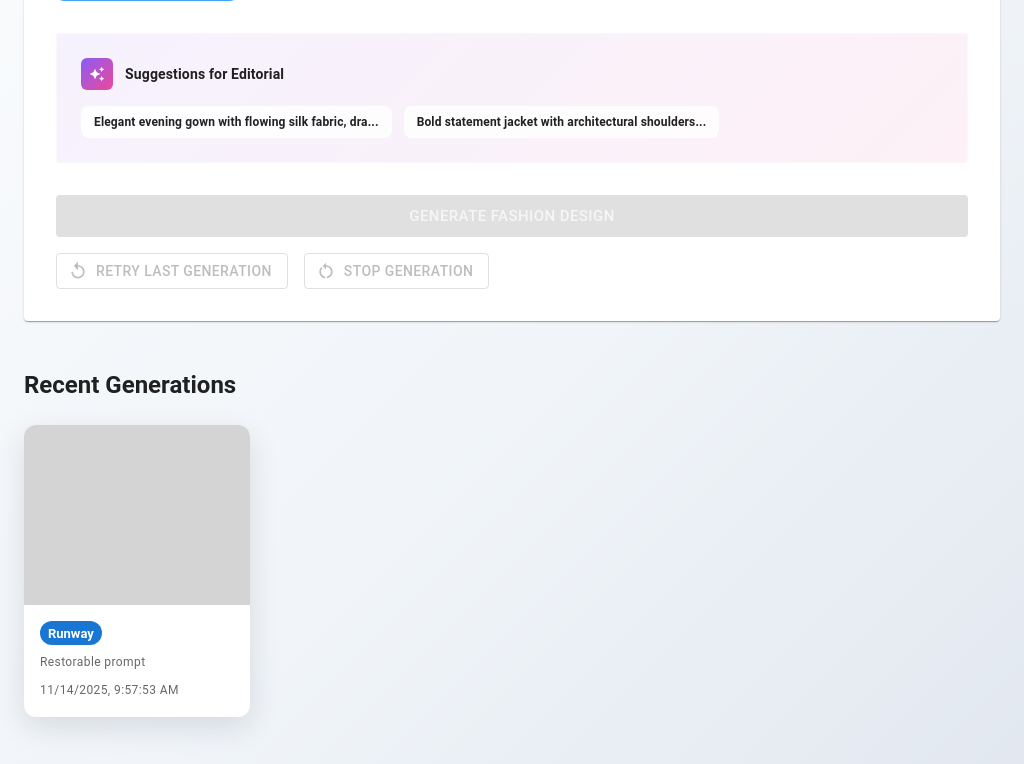
Studio UI › restores a previous generation when clicked
The image size is (1024, 764).
(page scrolled)
Click the text "Restorable prompt": (93, 662) [40,656,146,670]
(page scrolled)
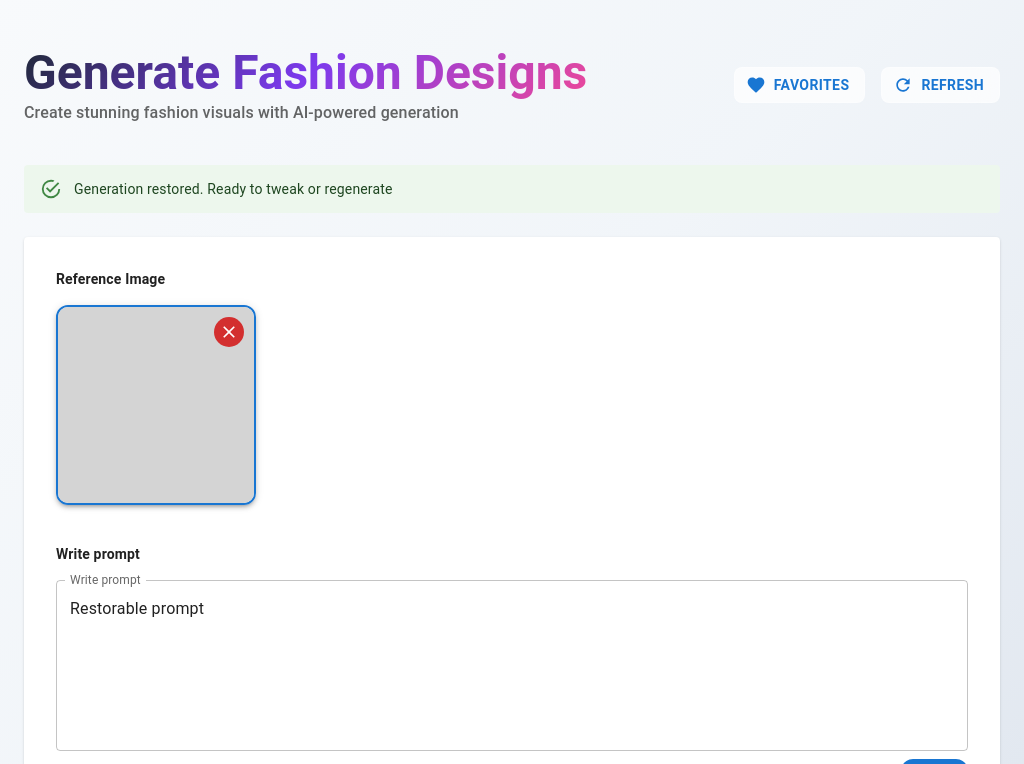
Check: the text "Generation restored. Ready to tweak or regenerate" is shown, box [74,181,392,197]
